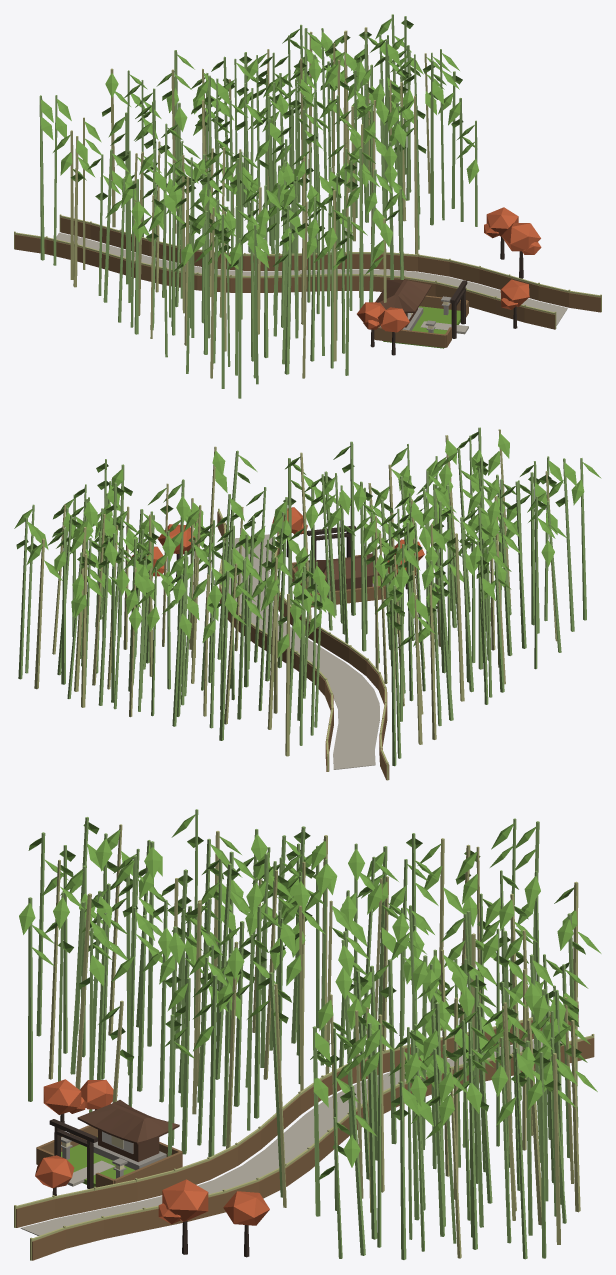
The model's file is arashiyama.glb.
3 renders of one model, top to bottom at view 1: azimuth 30°, elevation 25°; view 2: azimuth 150°, elevation 25°; view 3: azimuth 270°, elevation 25°, orthographic. The views are drawn at different scales.
Visible parts, largest first — view 1: arashiyama_culm, arashiyama_bambooleaf, arashiyama_culmold, arashiyama_brush, arashiyama_leaf, arashiyama_pave, arashiyama_roof, arashiyama_kuroki, arashiyama_moss; view 2: arashiyama_culm, arashiyama_bambooleaf, arashiyama_culmold, arashiyama_pave, arashiyama_brush, arashiyama_leaf, arashiyama_roof, arashiyama_kuroki; view 3: arashiyama_culm, arashiyama_bambooleaf, arashiyama_culmold, arashiyama_brush, arashiyama_leaf, arashiyama_pave, arashiyama_roof, arashiyama_kuroki, arashiyama_stone, arashiyama_moss.
Boxes of the visible parts, left/top/right/bottom form: arashiyama_culm: left=39, top=14, right=477, bottom=398; arashiyama_bambooleaf: left=41, top=18, right=479, bottom=274; arashiyama_culmold: left=14, top=27, right=601, bottom=378; arashiyama_brush: left=14, top=217, right=600, bottom=347; arashiyama_leaf: left=357, top=207, right=541, bottom=332; arashiyama_pave: left=56, top=232, right=567, bottom=334; arashiyama_roof: left=375, top=279, right=431, bottom=327; arashiyama_kuroki: left=370, top=237, right=523, bottom=355; arashiyama_moss: left=383, top=306, right=460, bottom=348; arashiyama_culm: left=18, top=427, right=586, bottom=766; arashiyama_bambooleaf: left=14, top=431, right=601, bottom=657; arashiyama_culmold: left=34, top=429, right=557, bottom=780; arashiyama_pave: left=228, top=534, right=379, bottom=769; arashiyama_brush: left=217, top=511, right=389, bottom=780; arashiyama_leaf: left=130, top=507, right=424, bottom=576; arashiyama_roof: left=308, top=553, right=379, bottom=591; arashiyama_kuroki: left=176, top=525, right=407, bottom=589; arashiyama_culm: left=28, top=809, right=578, bottom=1259; arashiyama_bambooleaf: left=19, top=814, right=601, bottom=1179; arashiyama_culmold: left=14, top=824, right=594, bottom=1260; arashiyama_brush: left=16, top=1005, right=594, bottom=1260; arashiyama_leaf: left=35, top=1079, right=269, bottom=1225; arashiyama_pave: left=20, top=1040, right=561, bottom=1235; arashiyama_roof: left=77, top=1100, right=179, bottom=1161; arashiyama_kuroki: left=49, top=1109, right=249, bottom=1257; arashiyama_stone: left=61, top=1137, right=166, bottom=1178; arashiyama_moss: left=61, top=1136, right=135, bottom=1186.
Size of the model in its own units: 21.92 by 9.3 by 21.66.
